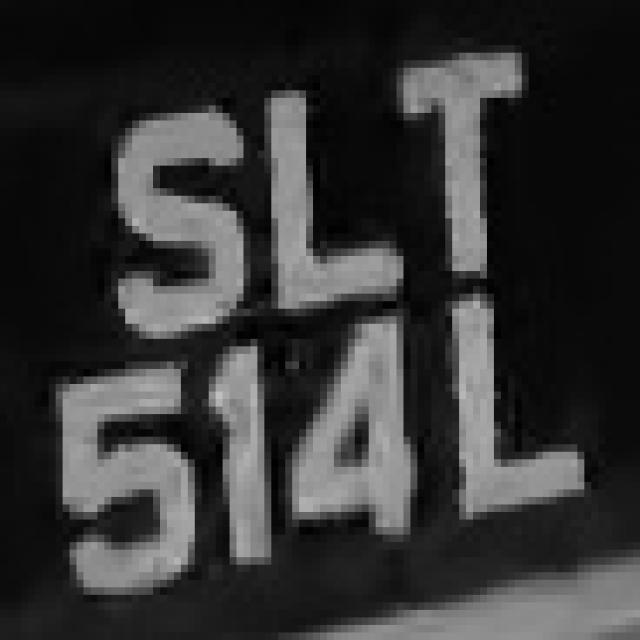1: (195, 324, 292, 587)
4: (272, 309, 432, 557)
5: (35, 361, 208, 595)
L: (243, 53, 424, 316), (445, 294, 598, 534)
S: (77, 75, 250, 354)
T: (376, 45, 550, 286)
